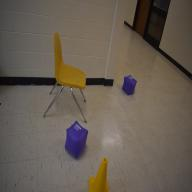cone: (89, 157, 109, 192)
cube: (64, 120, 88, 160), (122, 74, 138, 96)
